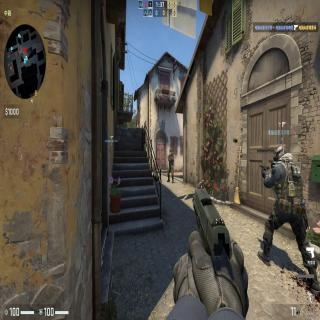T-Body: (166, 150, 174, 184)
T-Head: (169, 150, 172, 155)
